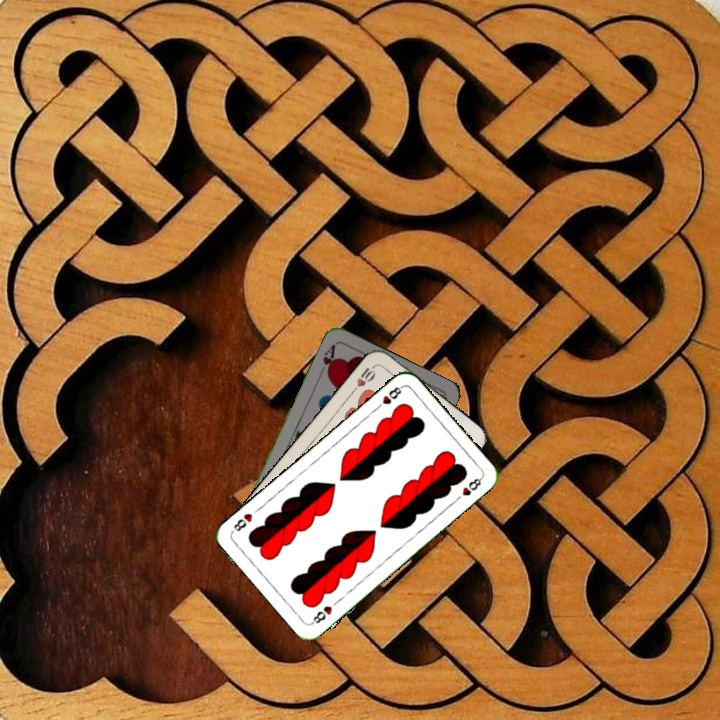H10: (349, 360, 379, 394)
H8: (372, 382, 405, 412), (307, 602, 335, 627)
HA: (315, 340, 339, 379)
